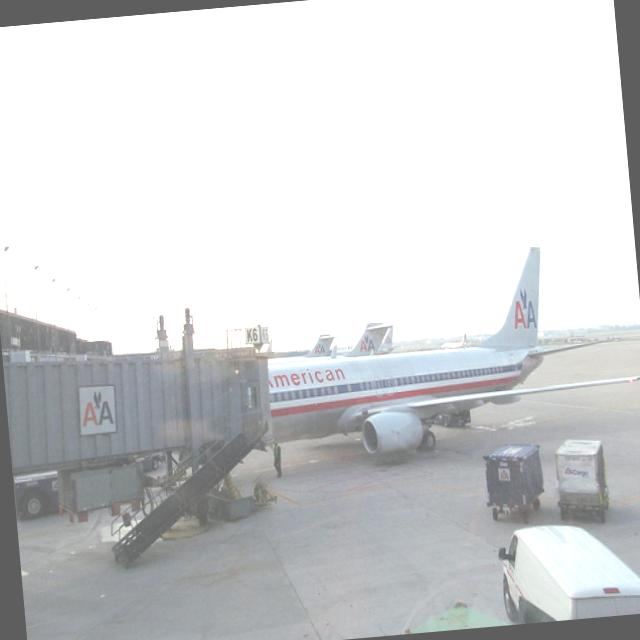Vehicle: (496, 515, 640, 625), (550, 435, 611, 526), (485, 439, 547, 523)
